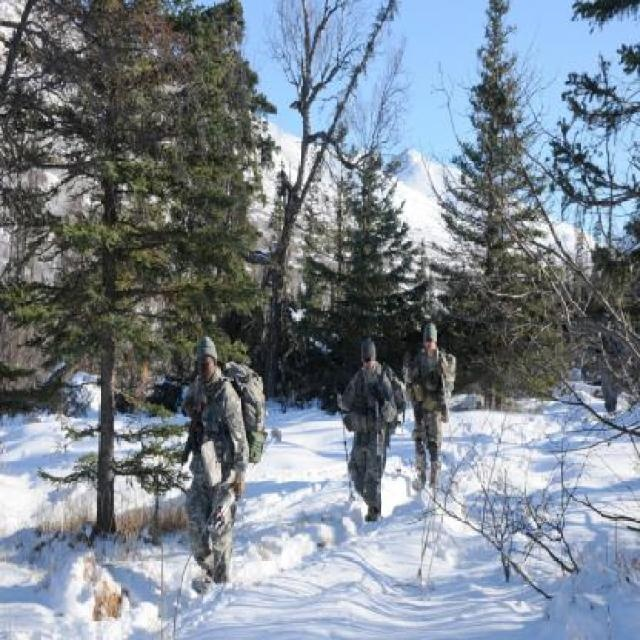obstacle: (178, 339, 252, 621), (342, 335, 400, 531), (409, 318, 457, 484)
